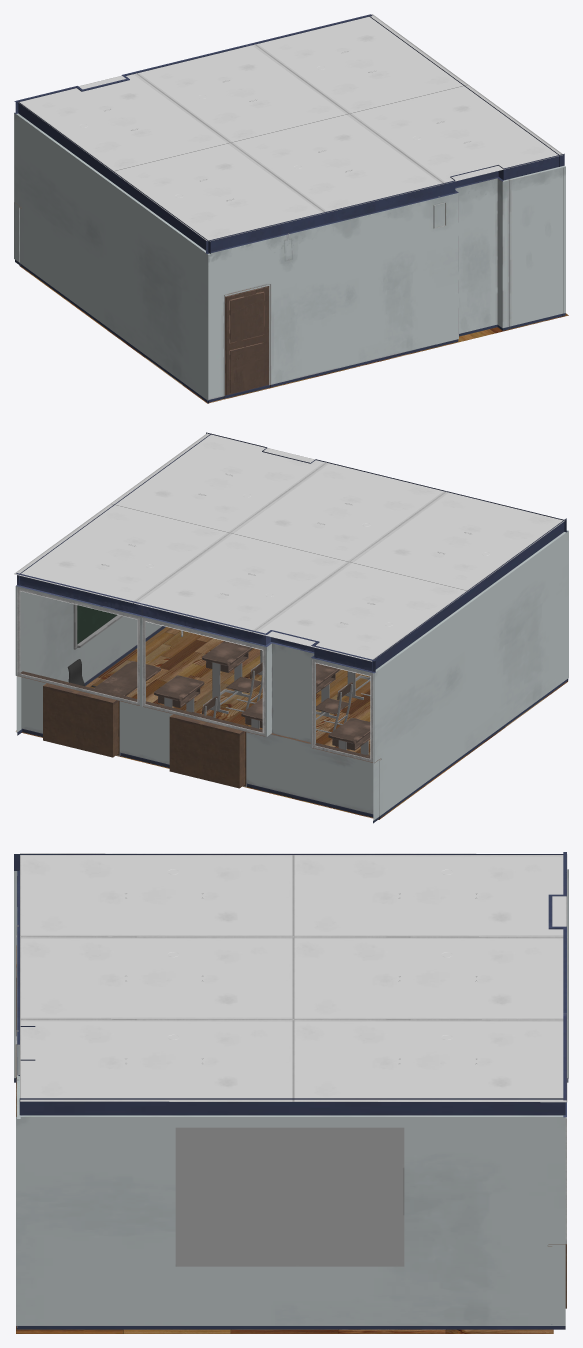
Rendered from classroom.glb.
3 views of the same model, one above another, from view 1: azimuth 30°, elevation 25°; view 2: azimuth 150°, elevation 25°; view 3: azimuth 270°, elevation 25° (orthographic). The views are drawn at different scales.
Visible parts, largest first — view 1: Roof, Wall, Wall.001, Windows, Floor; view 2: Roof, Windows, Wall.001, Floor, Wall.002, School desk, Teacher desk, School blackboards, Wall; view 3: Roof, Wall.002, School blackboards, Floor, Wall.001, Windows, Wall.
Part boxes in pixels (x1=…): Roof: x1=18, y1=14, x2=563, y2=241; Wall: x1=206, y1=153, x2=565, y2=402; Wall.001: x1=14, y1=102, x2=210, y2=403; Windows: x1=14, y1=14, x2=372, y2=266; Floor: x1=19, y1=265, x2=568, y2=403; Roof: x1=14, y1=433, x2=564, y2=661; Windows: x1=15, y1=573, x2=381, y2=819; Wall.001: x1=372, y1=518, x2=568, y2=823; Floor: x1=16, y1=627, x2=567, y2=819; Wall.002: x1=16, y1=434, x2=210, y2=735; School desk: x1=154, y1=641, x2=370, y2=755; Teacher desk: x1=67, y1=659, x2=160, y2=700; School blackboards: x1=73, y1=604, x2=183, y2=649; Wall: x1=206, y1=432, x2=567, y2=681; Roof: x1=20, y1=853, x2=567, y2=1102; Wall.002: x1=16, y1=1098, x2=565, y2=1329; School blackboards: x1=175, y1=1127, x2=404, y2=1266; Floor: x1=16, y1=1083, x2=553, y2=1333; Wall.001: x1=14, y1=854, x2=568, y2=1082; Windows: x1=548, y1=852, x2=566, y2=1324; Wall: x1=15, y1=871, x2=35, y2=1327.
Bounding box in the file's own units: 7.86 × 3.36 × 7.33.
8 materials, 8 textured.
